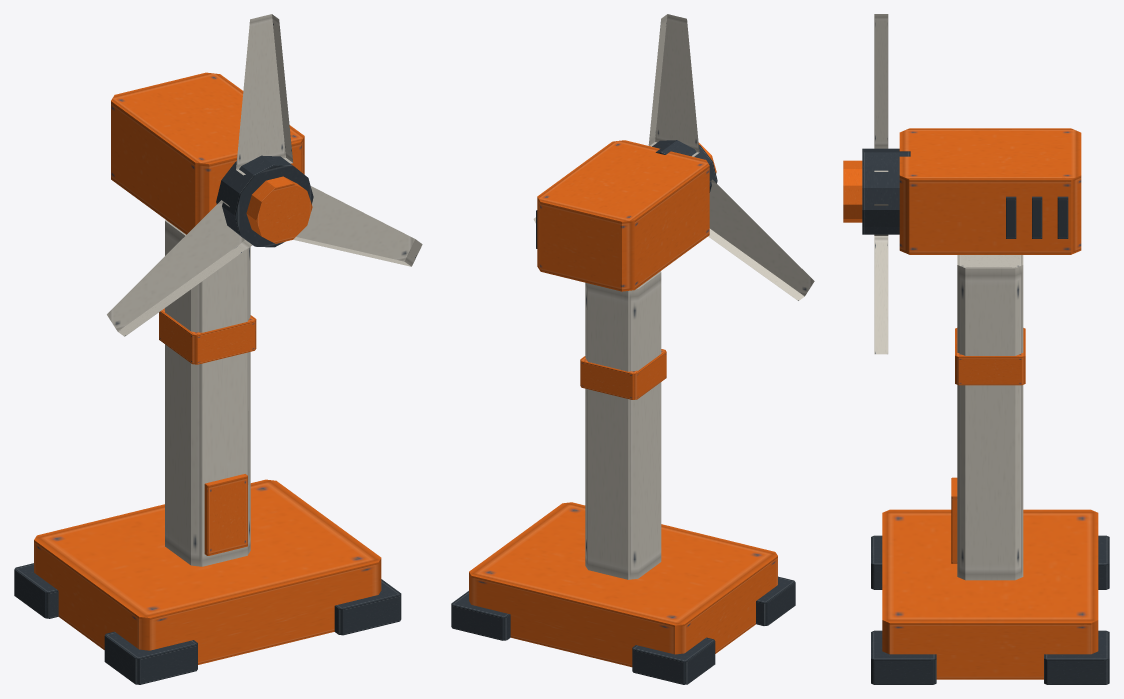
File: wind-turbine-textured-animated.glb
3 views of the same model, side by side, from view 1: azimuth 30°, elevation 25°; view 2: azimuth 150°, elevation 25°; view 3: azimuth 270°, elevation 25° (orthographic). The views are drawn at different scales.
Parts seen in each view (by area): view 1: base, tower, blade (×3), nacelle, foot (×3), hub, hub_cap, access_hatch, tower_band; view 2: base, tower, nacelle, blade (×2), foot (×3), tower_band, hub; view 3: base, nacelle, tower, foot (×4), blade (×2), hub, tower_band, vent (×3), hub_cap, access_hatch.
Part boxes in pixels (x1,y1,x2,y2): base: (34, 479, 381, 664); tower: (165, 220, 250, 566); blade (×3): (107, 14, 422, 336); nacelle: (111, 72, 304, 234); foot (×3): (14, 563, 401, 684); hub: (216, 155, 313, 247); hub_cap: (246, 176, 312, 243); access_hatch: (204, 474, 247, 555); tower_band: (159, 308, 256, 364); base: (469, 502, 777, 667); tower: (585, 271, 661, 579); nacelle: (537, 140, 709, 291); blade (×2): (648, 14, 814, 300); foot (×3): (451, 576, 795, 684); tower_band: (580, 349, 666, 399); hub: (652, 140, 717, 192); base: (882, 509, 1098, 679); nacelle: (899, 128, 1081, 254); tower: (957, 255, 1023, 580); foot (×4): (871, 535, 1109, 684); blade (×2): (874, 14, 888, 354); hub: (862, 148, 910, 234); tower_band: (955, 328, 1025, 385); vent (×3): (1006, 196, 1068, 238); hub_cap: (843, 160, 862, 222); access_hatch: (951, 477, 957, 563).
Size of the model in its own units: 1.98 by 3.85 by 1.54.
1 material, 1 textured.
